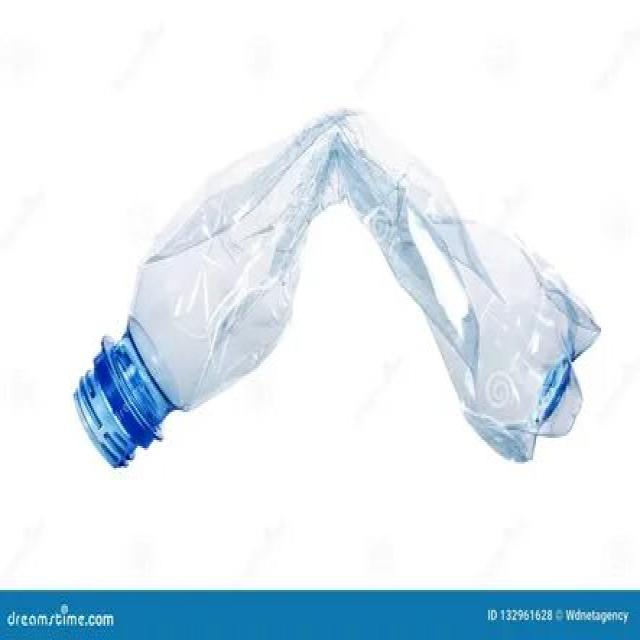blue: (72, 101, 604, 466)
